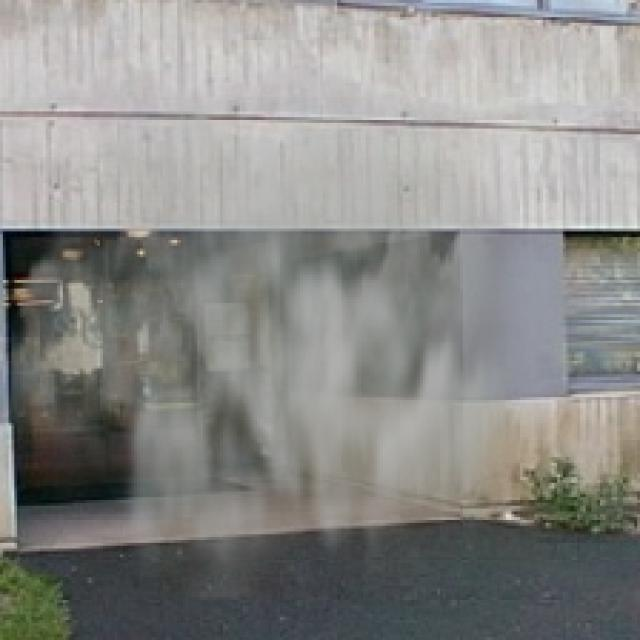Smoke: (11, 37, 543, 600)
